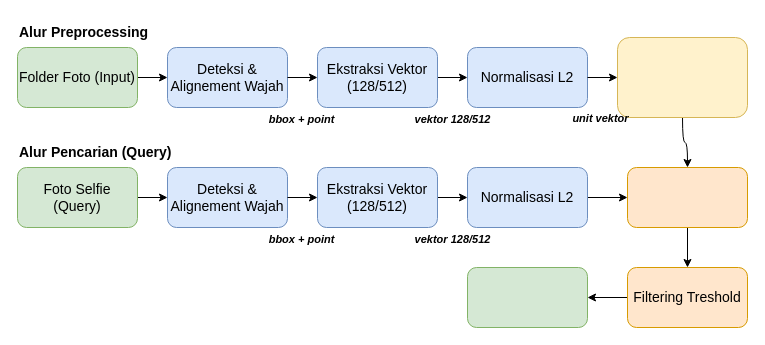
The diagram is 765 pixels wide and 345 high, and some of its shapes have lost their labels. The shapes that lost their labels are listed below. From the top down, each one's box as (x1, y1, x2, y2) in pixels, then its label:
(616, 36, 748, 118): Cache Vektor (.face_cache/*.json)
(626, 166, 748, 228): Face matching
(466, 266, 588, 328): Folder Hasil Pencarian
